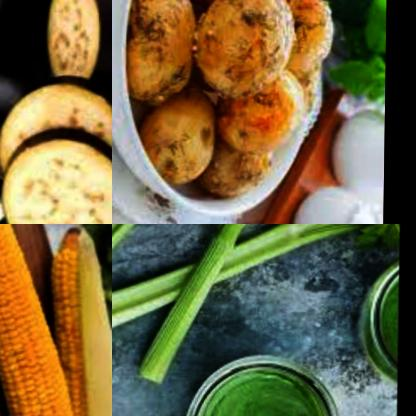celery: (135, 224, 342, 389), (112, 224, 402, 335), (112, 224, 254, 270)
corn: (0, 224, 92, 416), (43, 227, 112, 416)
cucumber: (299, 0, 389, 37)
eggplant: (0, 0, 112, 224), (0, 0, 54, 224)
potato: (192, 0, 295, 101), (131, 89, 227, 193), (120, 0, 206, 107), (218, 64, 313, 155), (200, 117, 285, 199), (279, 0, 342, 79)
